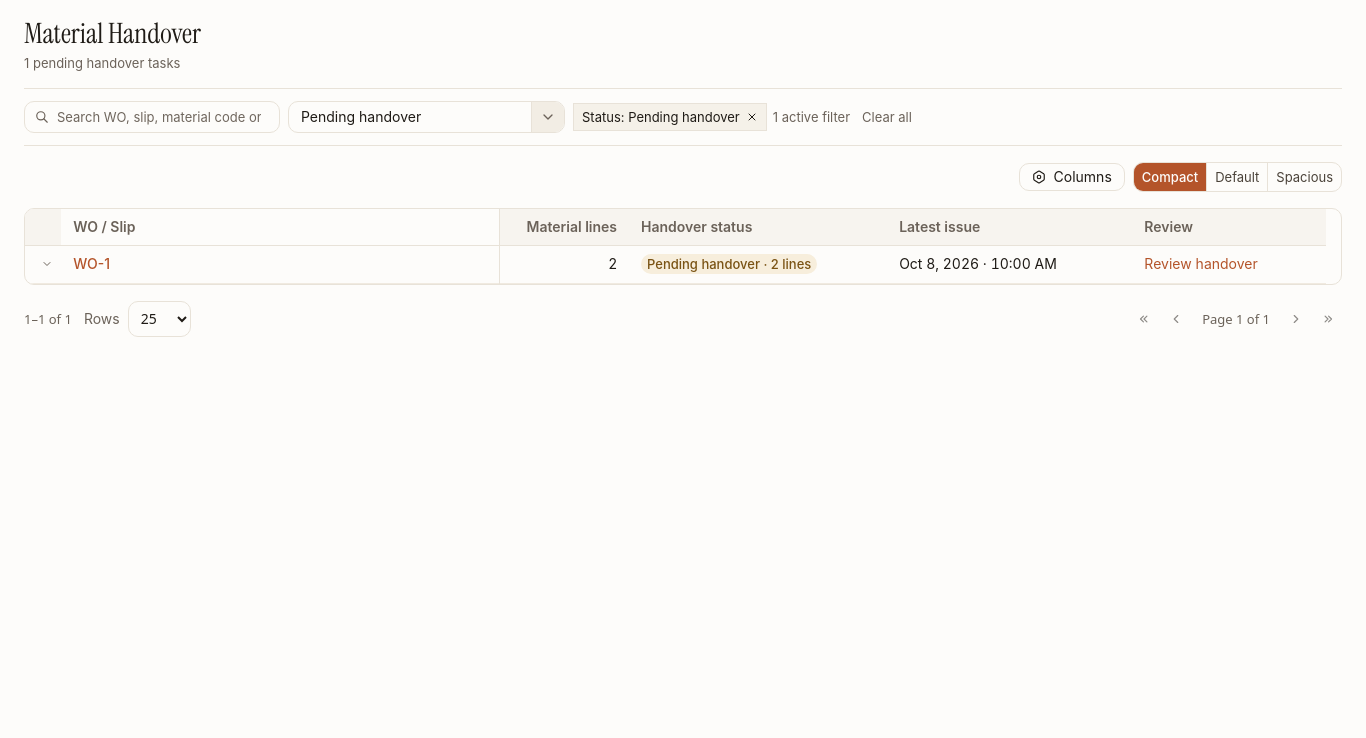
it: whole WO row opens all sources and confirms only selected lines with prefilled receiver
Click the text "WO-1". click: (92, 264)
box: [73, 255, 110, 272]
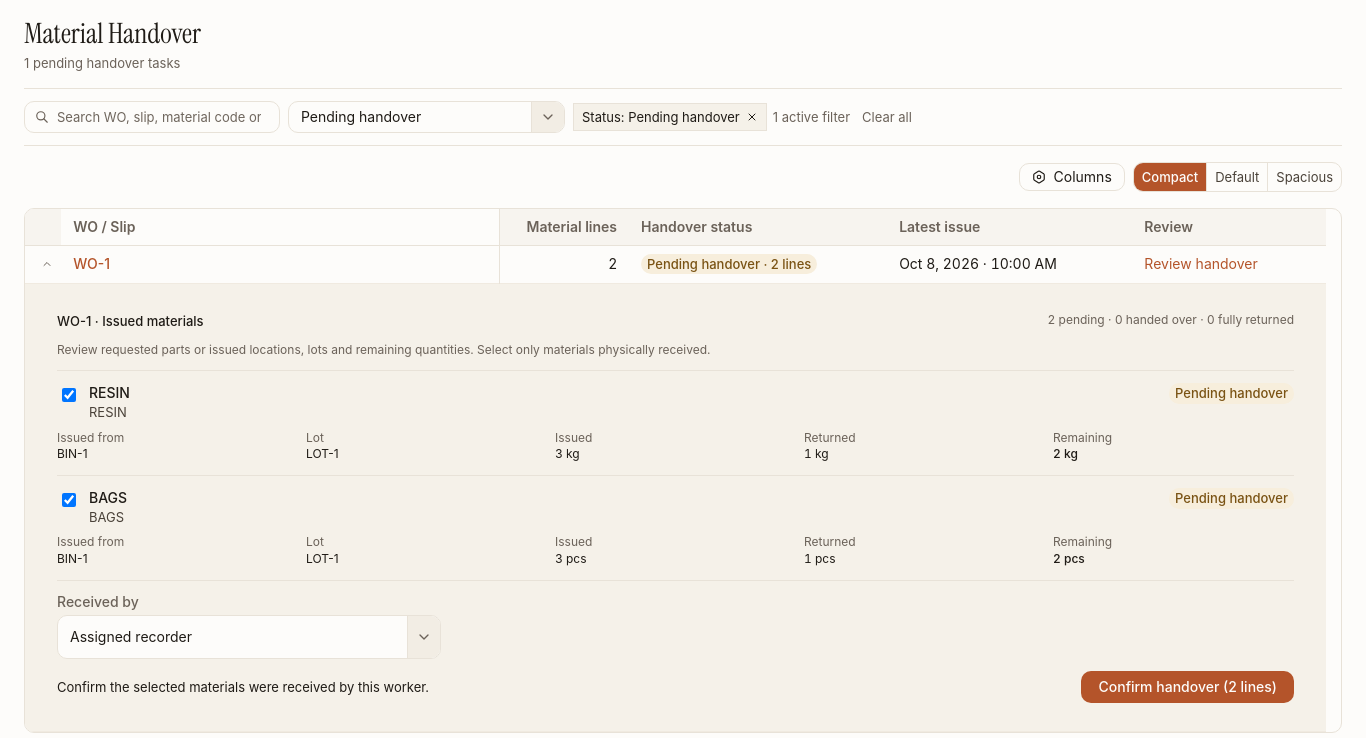
Expected: the dropdown labelled "Received by" holds "Assigned recorder", [58, 616, 407, 658]
Expected: the 1st text "RESIN" is shown, [89, 384, 130, 402]
Click the checkbox named "Select BAGS issue-1". click: (69, 500)
box: [62, 493, 76, 507]
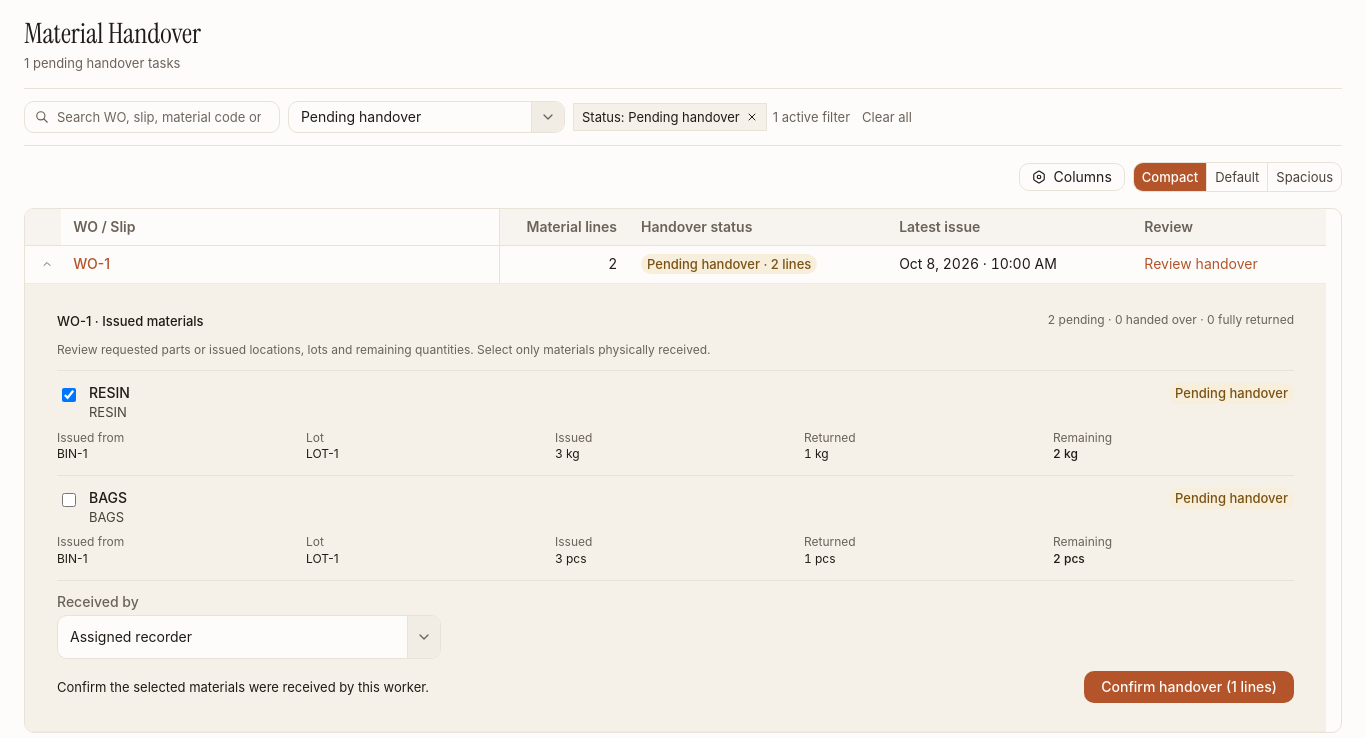
Click the button "Confirm handover (1 lines)". click: (1189, 687)
box: [1084, 671, 1294, 703]
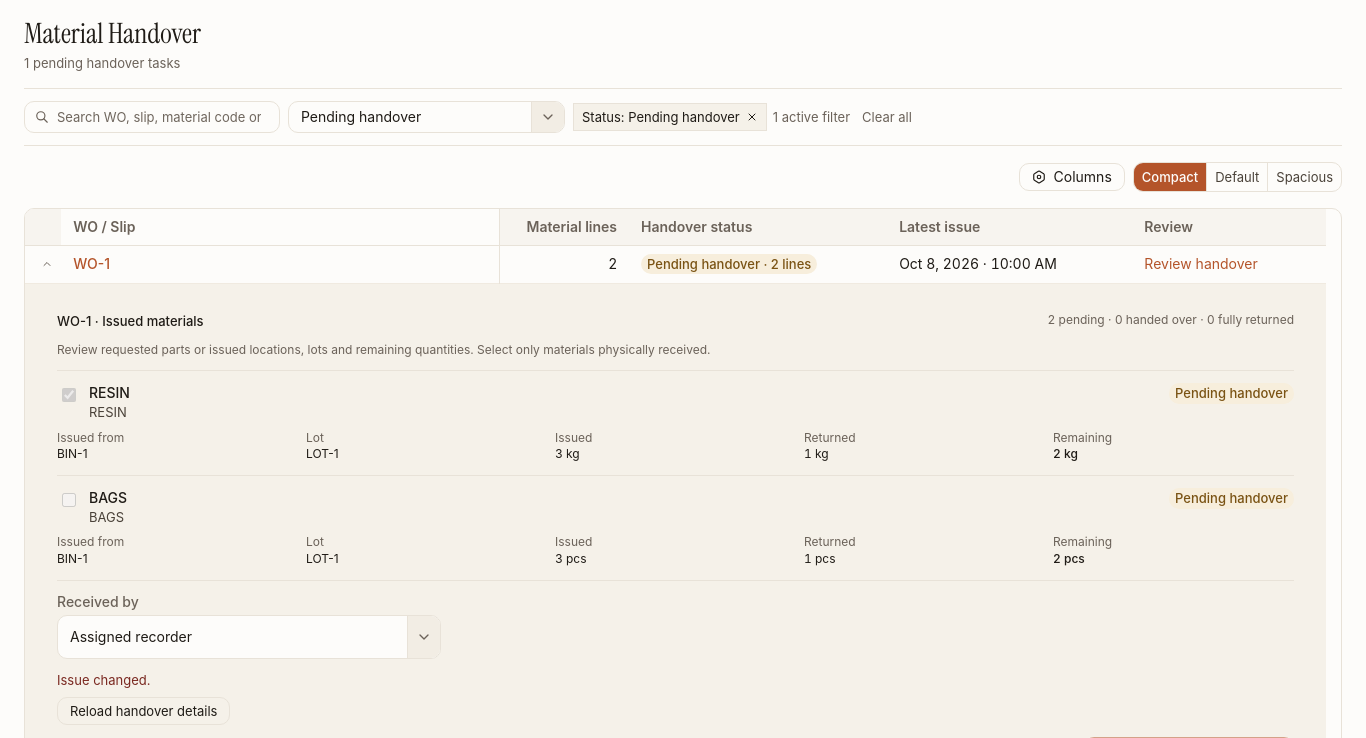
Expected: the dropdown labelled "Received by" holds "Assigned recorder", [58, 616, 407, 658]
Expected: the text "Issue changed." is shown, [57, 672, 150, 688]
